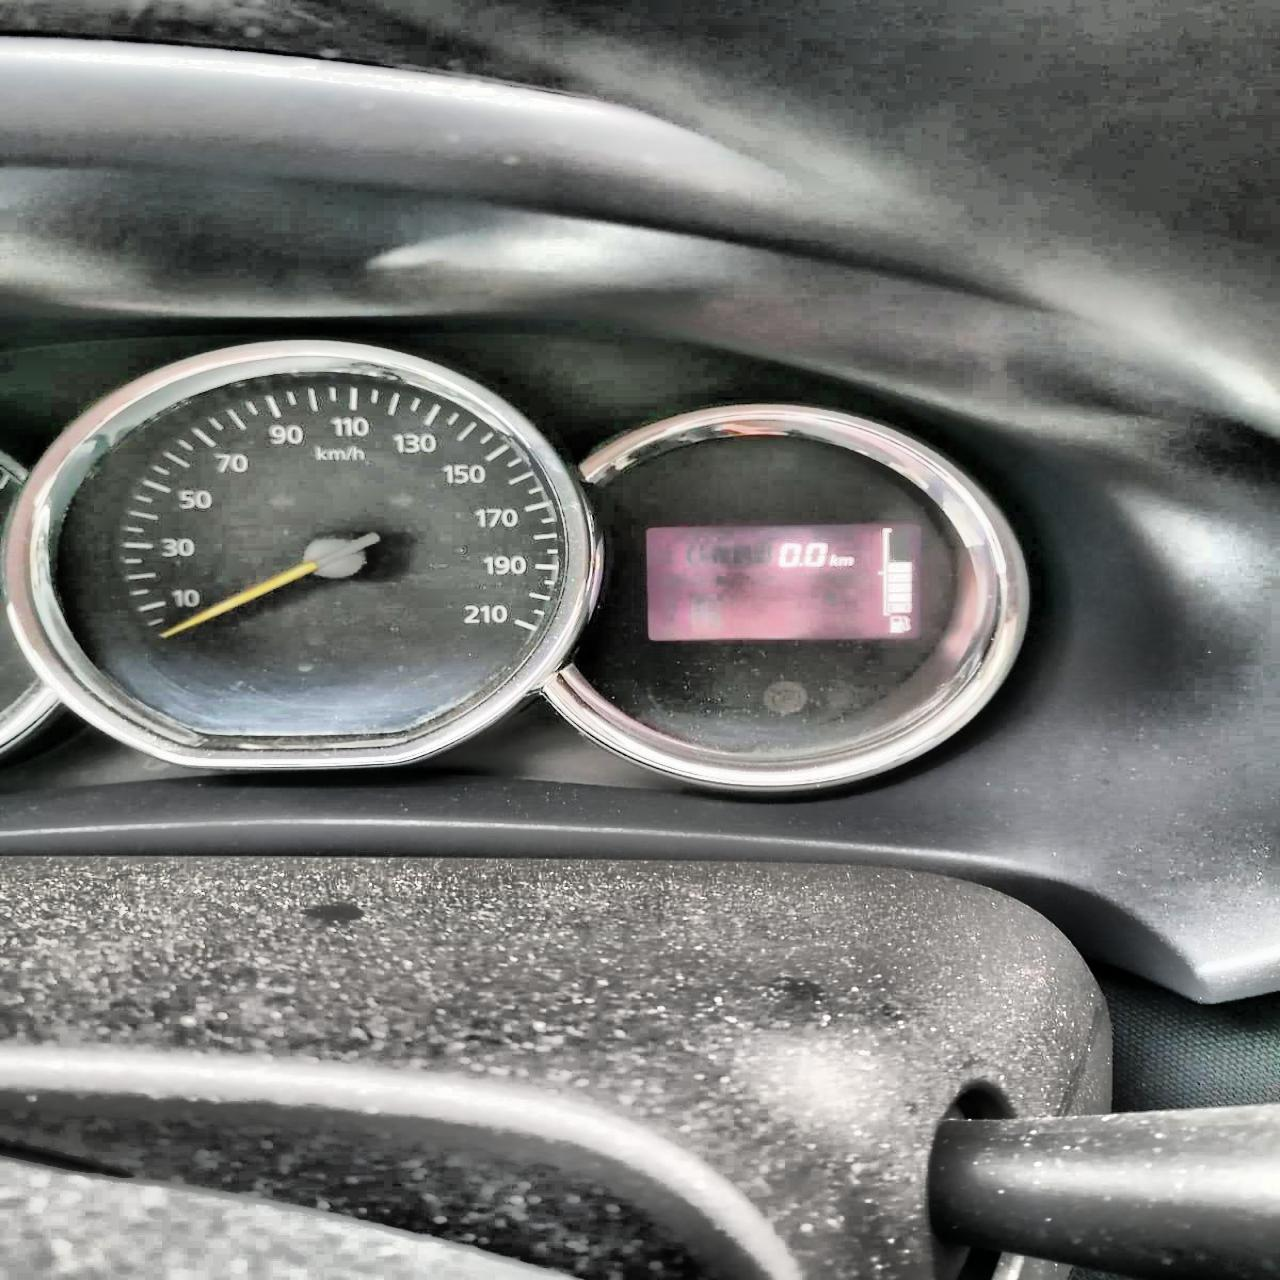-: (798, 561, 803, 566)
0: (777, 542, 802, 567), (803, 542, 826, 566)
X: (837, 556, 855, 566), (826, 553, 838, 566)
odometer: (639, 519, 930, 646)
